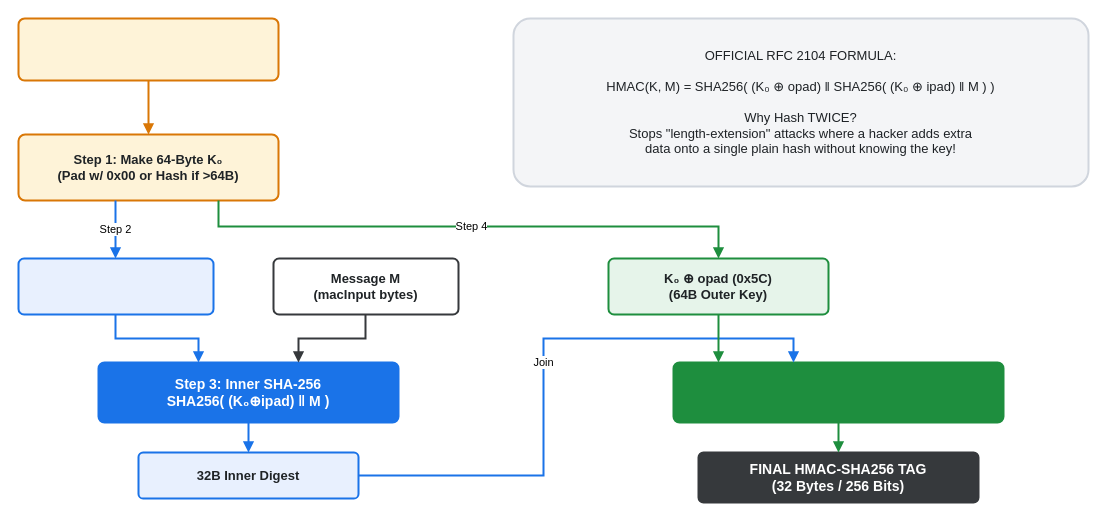
Some shapes in this 1106 by 520 pixel diagram are drawn without their labels. Each missing label, with the box of its shape:
K₀ ⊕ ipad (0x36) (64B Inner Key): (17, 257, 214, 315)
Secret Key K: (17, 17, 279, 81)
Step 5: Outer SHA-256 SHA256( (K₀⊕opad) ‖ Inner ): (672, 361, 1004, 423)
